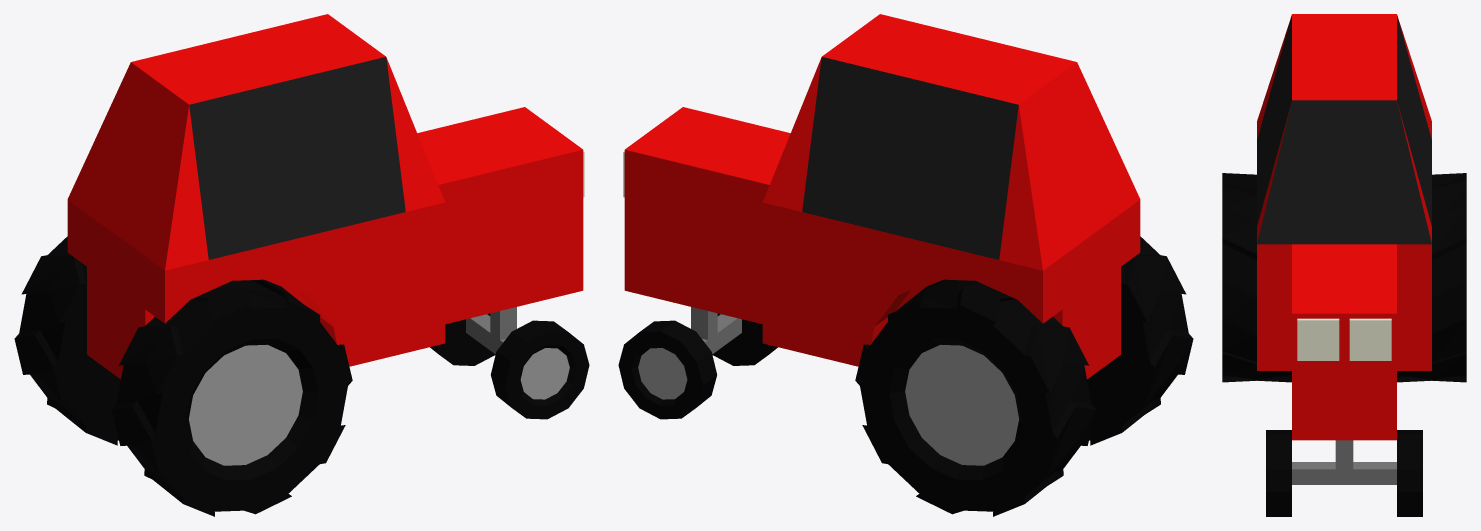
The model's file is tractor.glb.
3 views of the same model, side by side, from view 1: azimuth 30°, elevation 25°; view 2: azimuth 150°, elevation 25°; view 3: azimuth 270°, elevation 25° (orthographic). The views are drawn at different scales.
Visible parts, largest first — view 1: Base, RRW, RLW, Cylinder.003, Cylinder, FrontWheelHolde; view 2: Base, RLW, RRW, Cylinder, Cylinder.003, FrontWheelHolde; view 3: Base, RLW, RRW, FrontWheelHolde, Cylinder, Cylinder.003.
Part boxes in pixels (x1,y1,x2,y2): Base: (67,14,584,379); RRW: (112,279,352,516); RLW: (14,236,120,445); Cylinder.003: (491,320,589,419); Cylinder: (430,313,495,365); FrontWheelHolde: (466,307,516,353); Base: (623,14,1140,379); RLW: (855,279,1095,516); RRW: (1087,236,1193,445); Cylinder: (618,320,716,419); Cylinder.003: (712,313,777,365); FrontWheelHolde: (691,307,741,353); Base: (1257,14,1431,440); RLW: (1397,173,1466,382); RRW: (1222,173,1291,382); FrontWheelHolde: (1292,440,1396,484); Cylinder: (1397,430,1422,516); Cylinder.003: (1266,430,1291,516).
Size of the model in its own units: 2.83 by 2.2 by 1.4.
